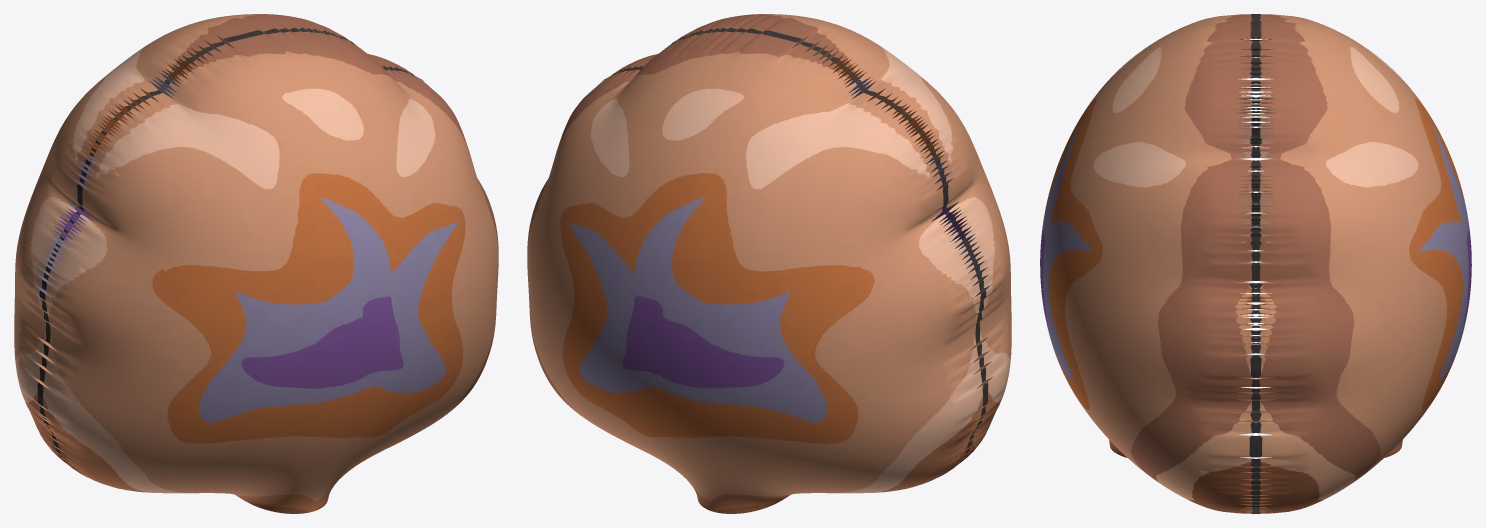
Rendered from star_boulder.glb.
3 renders of one model, left to right at view 1: azimuth 30°, elevation 25°; view 2: azimuth 150°, elevation 25°; view 3: azimuth 270°, elevation 25°, orthographic.
Parts seen in each view (by area): view 1: star_boulder; view 2: star_boulder; view 3: star_boulder.
Boxes of the visible parts, x1=… form: star_boulder: x1=14, y1=14, x2=498, y2=513; star_boulder: x1=527, y1=14, x2=1011, y2=513; star_boulder: x1=1040, y1=14, x2=1471, y2=513.
Bounding box in the file's own units: 0.989 × 0.9216 × 0.8605.
Materials: 1 (1 with a texture image).
